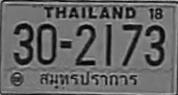0: (36, 23, 56, 64)
1: (105, 23, 111, 65)
2: (75, 23, 95, 65)
3: (13, 22, 33, 64), (144, 24, 164, 65)
7: (121, 23, 142, 65)
SPK: (38, 71, 140, 90)
